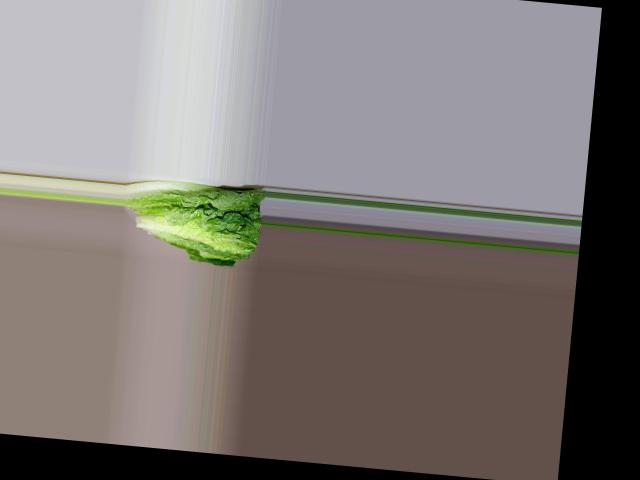lettuce: (126, 173, 266, 259)
